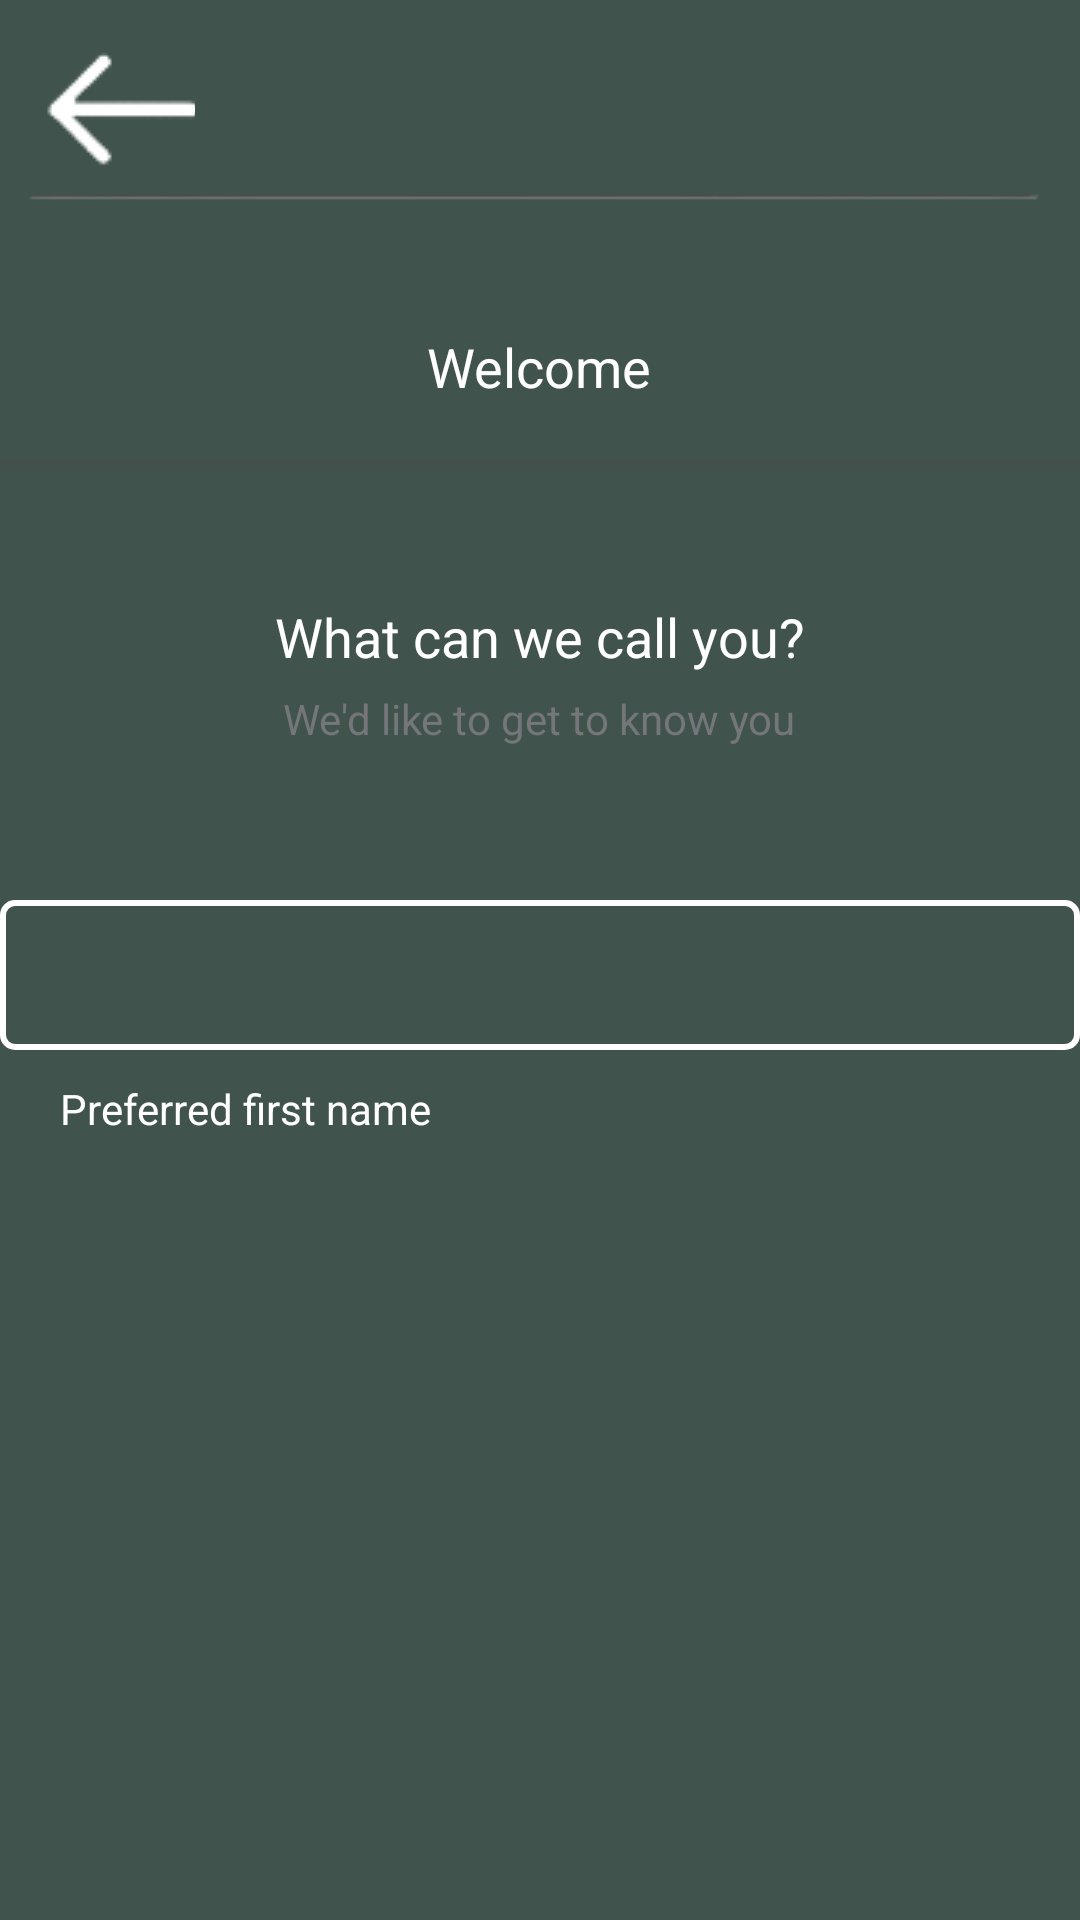

Point at icon controls on the screen. Image size 1080×1920, points as (x,y).
backbuttt: (121,109)
